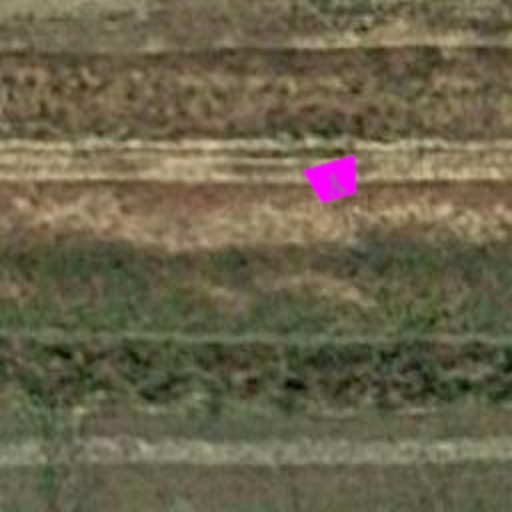trapezoid: (298, 144, 370, 216)
